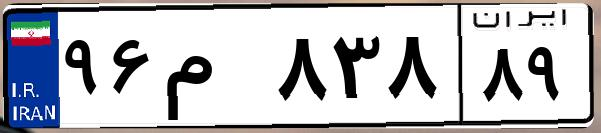3: (330, 28, 385, 110)
6: (110, 28, 158, 98)
8: (270, 28, 330, 110), (385, 28, 445, 110), (475, 38, 525, 113)
9: (57, 26, 110, 100), (525, 38, 570, 115)
م: (158, 20, 270, 120)
